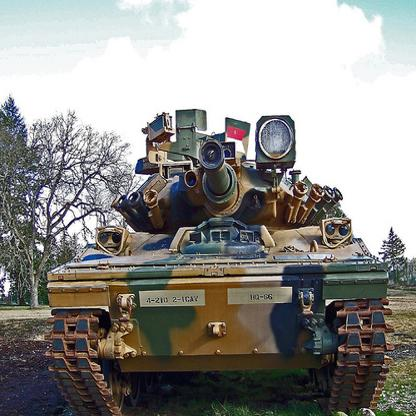Tank: (39, 98, 403, 416)
